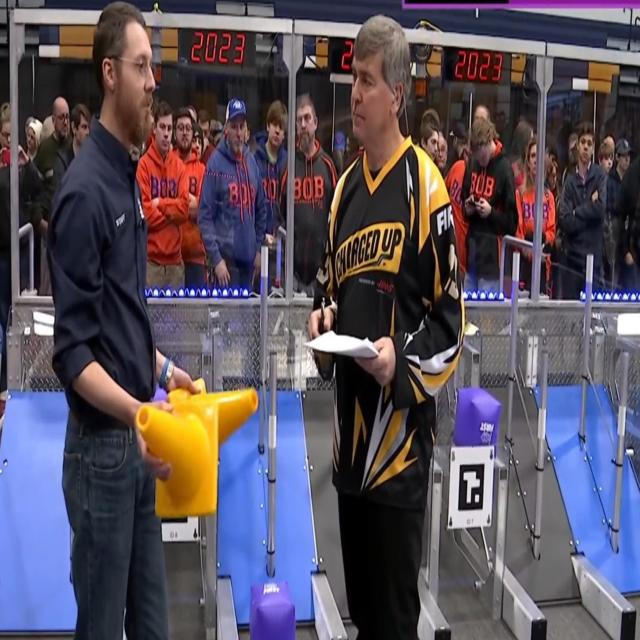frc_cone: (136, 397, 219, 515), (216, 389, 258, 447)
frc_cube: (453, 386, 500, 453), (249, 580, 297, 640)
